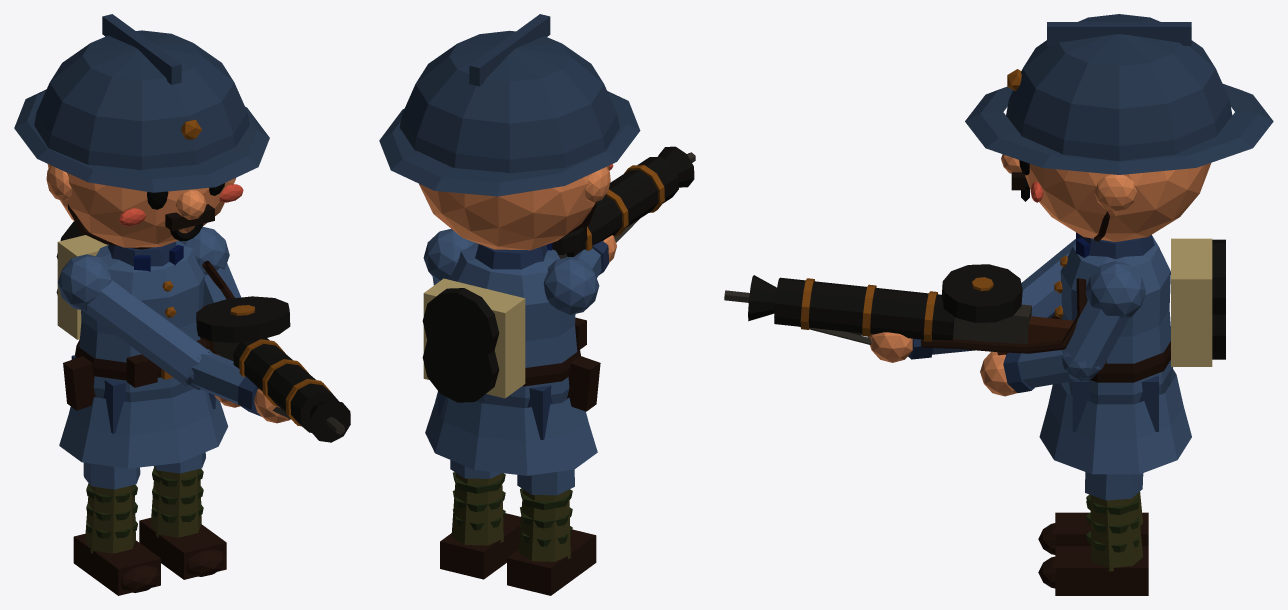
File: Ametrallador_CascoAdrian.obj
3 views of the same model, side by side, from view 1: azimuth 30°, elevation 25°; view 2: azimuth 150°, elevation 25°; view 3: azimuth 270°, elevation 25° (orthographic). The views are drawn at different scales.
Parts seen in each view (by area): view 1: Cuerpo, Pierna_I, Pierna_D; view 2: Cuerpo, Pierna_I, Pierna_D; view 3: Cuerpo, Pierna_D, Pierna_I.
Part boxes in pixels (x1,y1,x2,y2): Cuerpo: [14, 14, 350, 468]; Pierna_I: [73, 462, 160, 595]; Pierna_D: [139, 452, 226, 579]; Cuerpo: [379, 14, 695, 475]; Pierna_I: [507, 469, 596, 595]; Pierna_D: [440, 460, 520, 579]; Cuerpo: [724, 14, 1273, 474]; Pierna_D: [1038, 472, 1148, 595]; Pierna_I: [1038, 492, 1148, 554].
Bounding box in the file's own units: 0.736 × 1.75 × 1.59.
